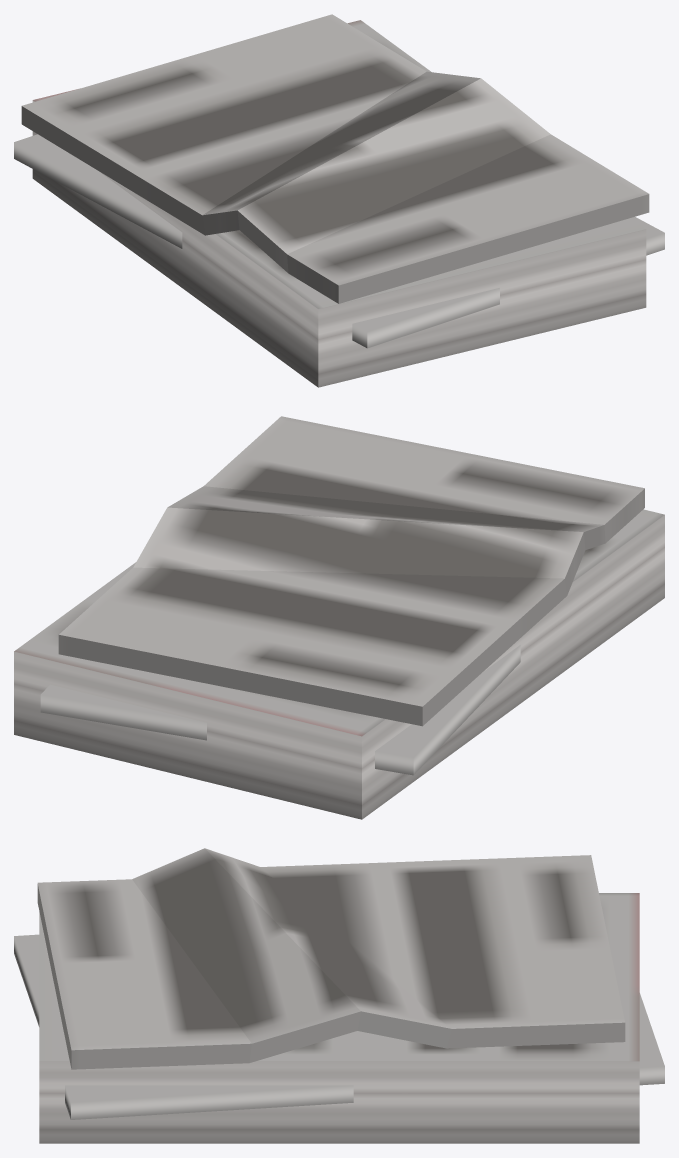
Rendered from SM_Prop_Paper_Pile_01.fbx.
3 views of the same model, one above another, from view 1: azimuth 30°, elevation 25°; view 2: azimuth 150°, elevation 25°; view 3: azimuth 270°, elevation 25° (orthographic). The views are drawn at different scales.
Parts seen in each view (by area): view 1: SM_Prop_Paper_Pile_01; view 2: SM_Prop_Paper_Pile_01; view 3: SM_Prop_Paper_Pile_01.
Part boxes in pixels (x1=…): SM_Prop_Paper_Pile_01: x1=14, y1=14, x2=664, y2=387; SM_Prop_Paper_Pile_01: x1=14, y1=416, x2=664, y2=819; SM_Prop_Paper_Pile_01: x1=14, y1=848, x2=664, y2=1143.
Bounding box in the file's own units: 26.69 × 7.74 × 36.17.
